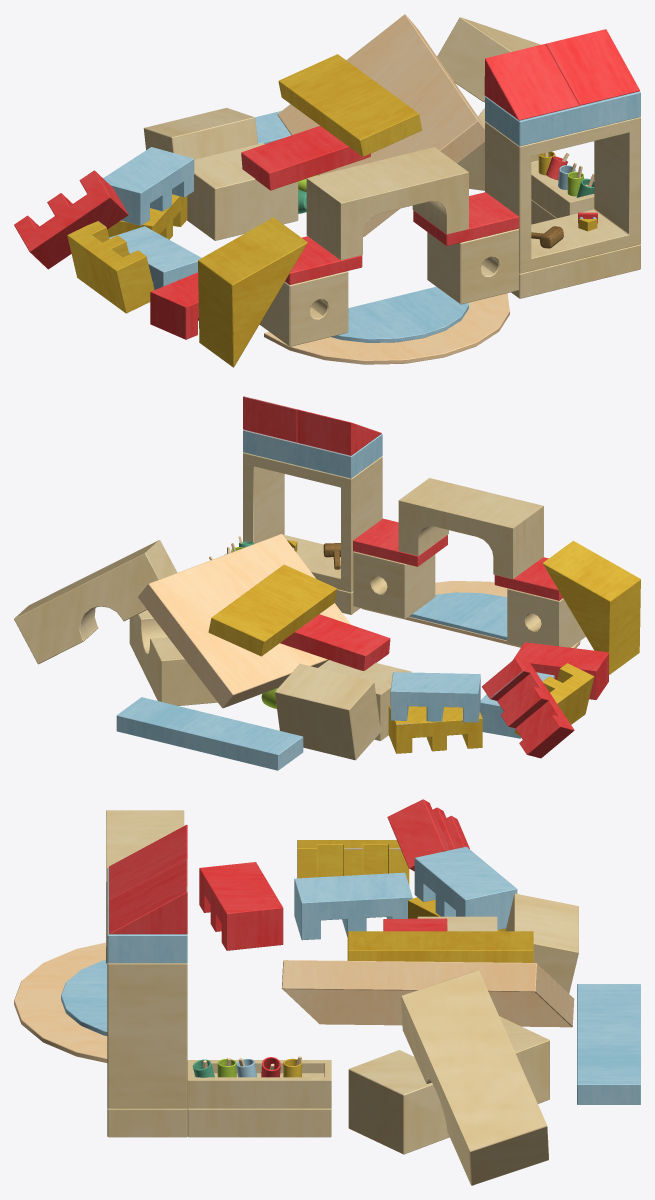
Rendered from house-2.fbx.
The picture shows the model from 3 angles, top to bottom: view 1: azimuth 30°, elevation 25°; view 2: azimuth 150°, elevation 25°; view 3: azimuth 270°, elevation 25°; orthographic projection. The views are drawn at different scales.
Parts seen in each view (by area): view 1: house2; view 2: house2; view 3: house2.
Boxes of the visible parts, x1,y1,x2,y2 form: house2: (14, 14, 640, 367); house2: (14, 396, 640, 770); house2: (14, 799, 640, 1185).
Bounding box in the file's own units: 11.93 × 4.51 × 9.65.
